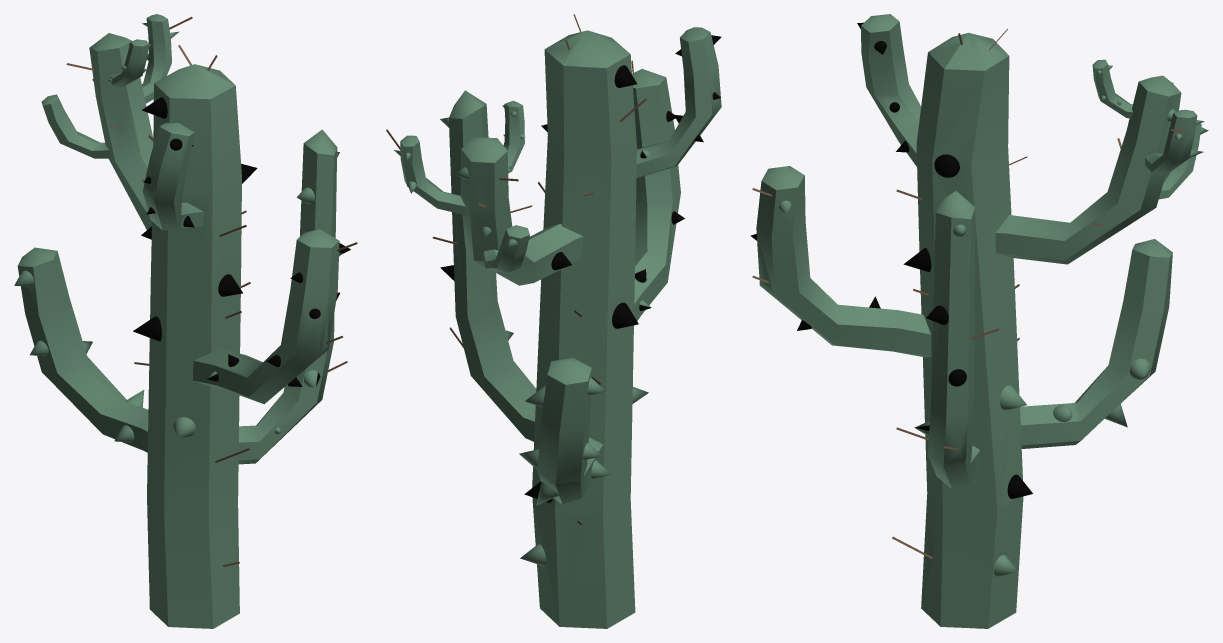
File: CactusScaledUseThisOne.fbx
3 views of the same model, side by side, from view 1: azimuth 30°, elevation 25°; view 2: azimuth 150°, elevation 25°; view 3: azimuth 270°, elevation 25° (orthographic). The views are drawn at different scales.
Visible parts, largest first — view 1: pCube24; view 2: pCube24; view 3: pCube24.
Part boxes in pixels (x1,y1,x2,y2): pCube24: (14,14,357,628); pCube24: (386,14,721,628); pCube24: (750,14,1208,628).
Size of the model in its own units: 30.83 by 67.65 by 47.94.
